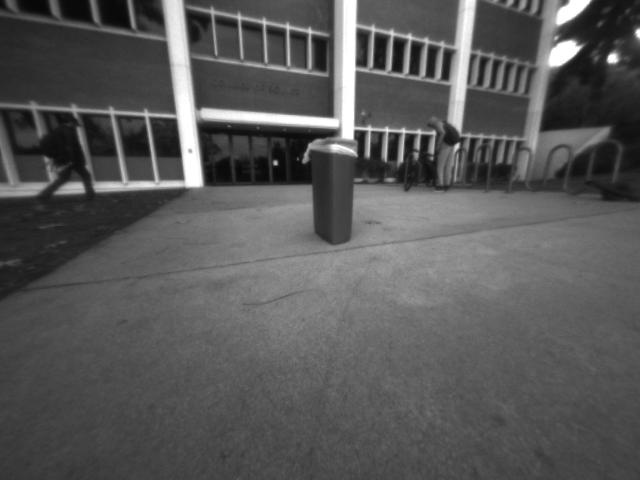trashcan_open: (300, 133, 362, 251)
